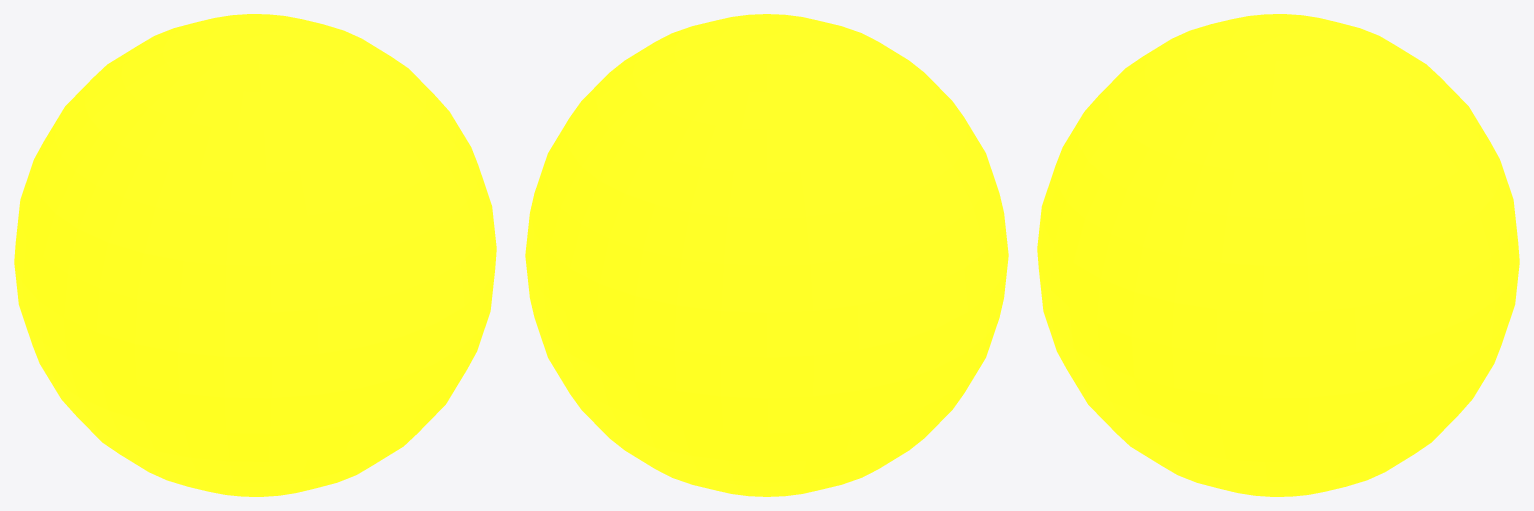
3 renders of one model, left to right at view 1: azimuth 30°, elevation 25°; view 2: azimuth 150°, elevation 25°; view 3: azimuth 270°, elevation 25°, orthographic.
Parts seen in each view (by area): view 1: Sphere; view 2: Sphere; view 3: Sphere.
Boxes of the visible parts, left/top/right/bottom form: Sphere: left=14, top=14, right=496, bottom=496; Sphere: left=525, top=14, right=1008, bottom=496; Sphere: left=1037, top=14, right=1519, bottom=496.
Size of the model in its own units: 0.0319 by 0.0319 by 0.0319.
